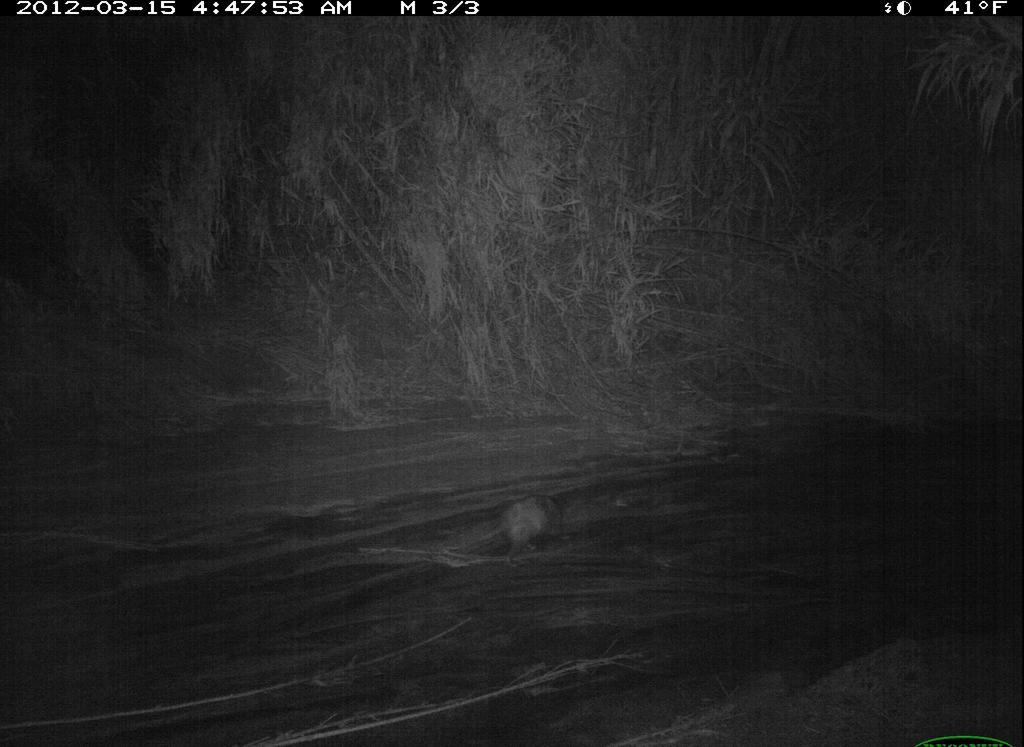opossum: (456, 482, 571, 569)
